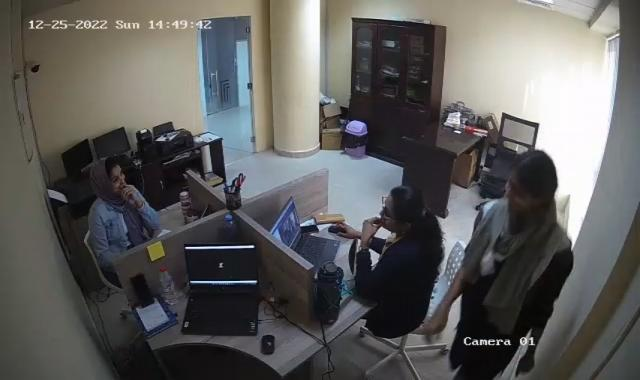no_hairnet: (504, 149, 558, 217), (381, 188, 422, 233), (89, 160, 127, 198)
